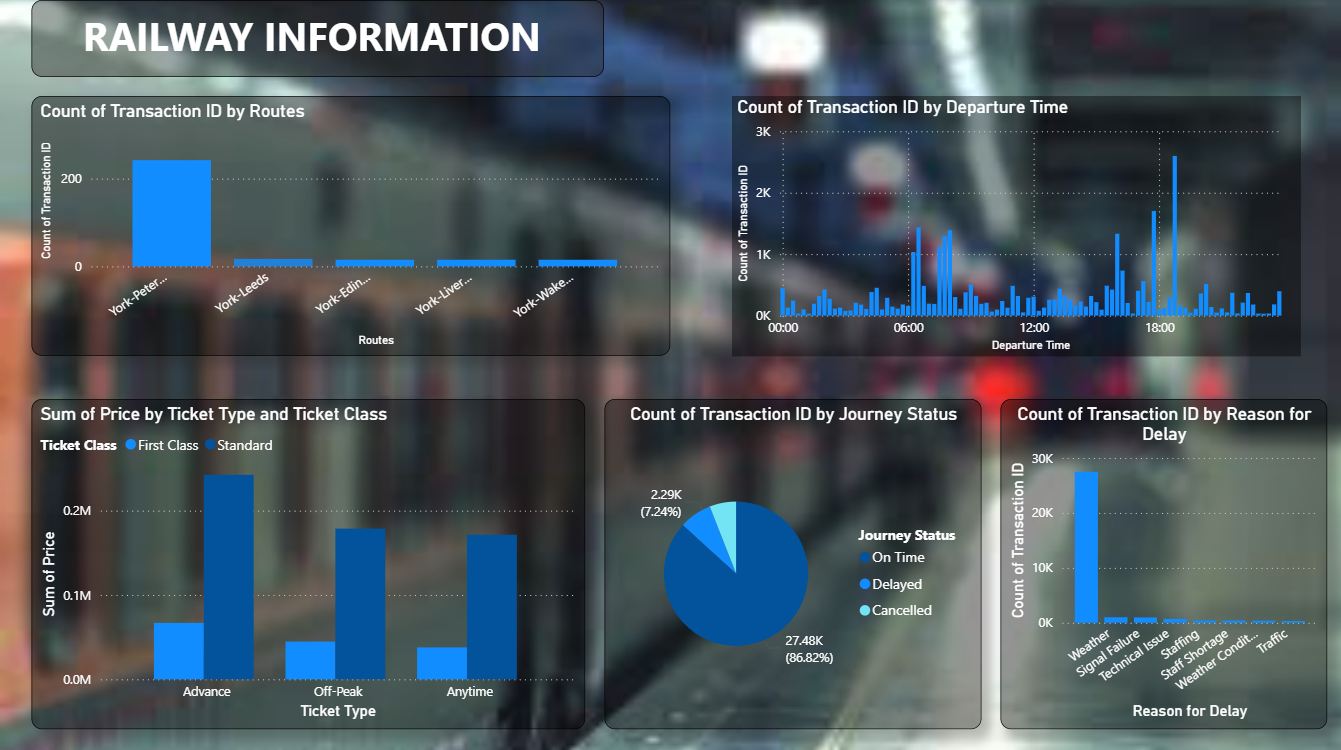

What the dashboard file says about the page in this screenshot:
{"tool":"powerbi","page":{"name":"Page 1","canvas":[1280,720],"ordinal":0},"visuals":[{"type":"clusteredColumnChart","fields":{"Category":["railway.Ticket Type"],"Series":["railway.Ticket Class"],"Y":["Sum(railway.Price)"]},"box":[30,381.7,528.3,315],"z":0},{"type":"columnChart","fields":{"Category":["railway.Routes"],"Y":["Count(railway.Transaction ID)"]},"box":[30,92,610,248],"z":1000},{"type":"pieChart","fields":{"Category":["railway.Journey Status"],"Y":["Count(railway.Transaction ID)"]},"box":[576.7,381.7,360,315],"z":2000},{"type":"textbox","box":[30,0,546.7,73.3],"z":3000},{"type":"columnChart","fields":{"Y":["CountNonNull(railway.Transaction ID)"],"Category":["railway.Reason for Delay"]},"box":[955,381.7,311.7,315],"z":4000},{"type":"columnChart","fields":{"Category":["railway.Departure Time"],"Y":["CountNonNull(railway.Transaction ID)"]},"box":[698.3,91.7,543.3,248.3],"z":5000}]}

Visuals, with their boxes in screenshot pixels (x1, y1, x2, y2), scaled from the page's 1280x720 canvas onto the 1341x750 screenshot:
clusteredColumnChart - railway.Ticket Type x railway.Ticket Class: pyautogui.locateOnScreen(31, 398, 585, 726)
columnChart - railway.Routes x Count(railway.Transaction ID): pyautogui.locateOnScreen(31, 96, 670, 354)
pieChart - railway.Journey Status x Count(railway.Transaction ID): pyautogui.locateOnScreen(604, 398, 981, 726)
textbox: pyautogui.locateOnScreen(31, 0, 604, 76)
columnChart - CountNonNull(railway.Transaction ID) x railway.Reason for Delay: pyautogui.locateOnScreen(1001, 398, 1327, 726)
columnChart - railway.Departure Time x CountNonNull(railway.Transaction ID): pyautogui.locateOnScreen(732, 96, 1301, 354)
